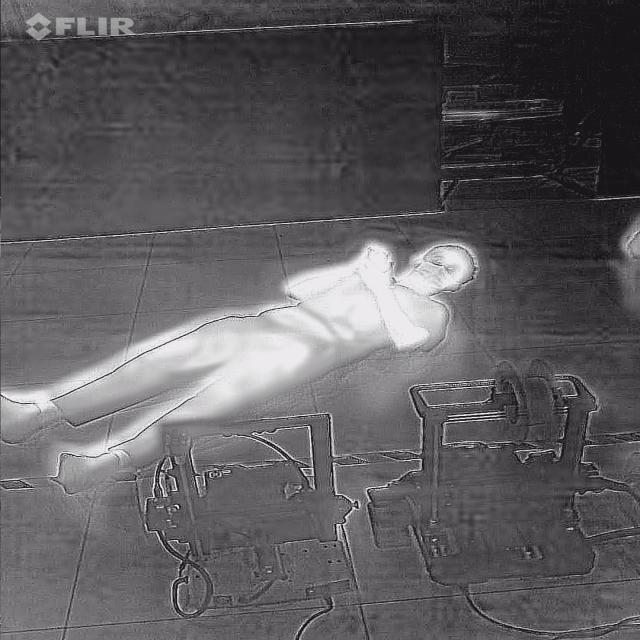Victim: (0, 229, 491, 493)
